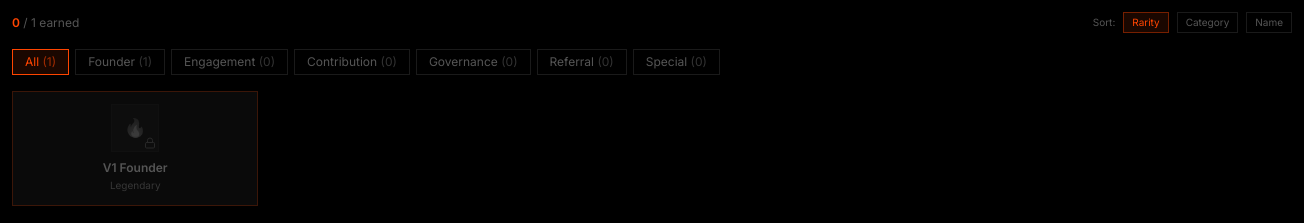
BadgeGallery › shows empty state when no badges match filter
Click the button "Engagement (0)" at point(230, 62), box [171,49,288,75]
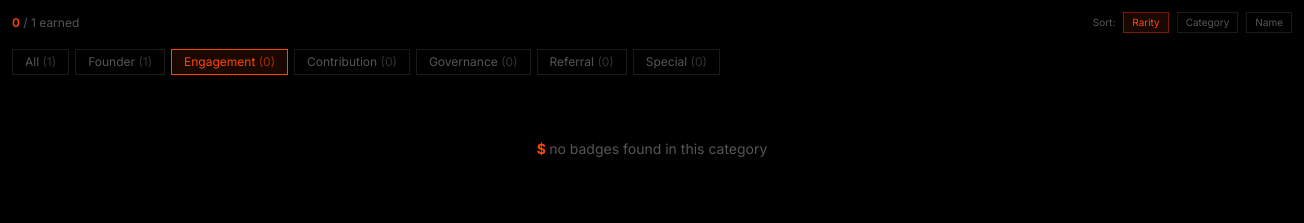
Expected: the text "$ no badges found in this category" is shown, [537,140,767,157]
